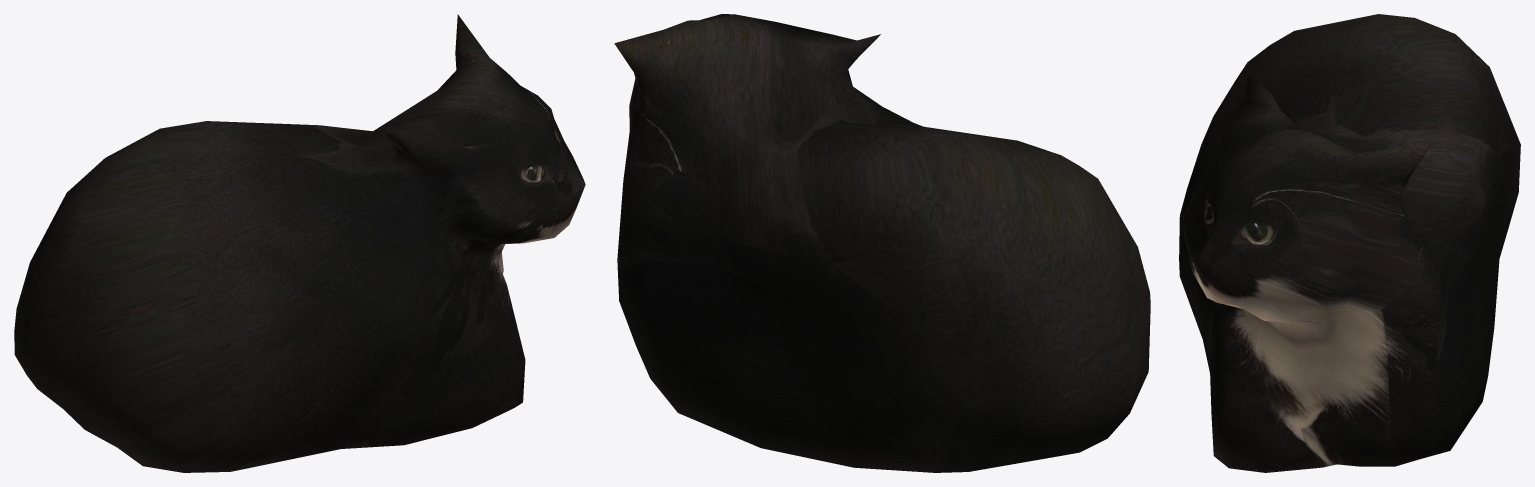
The model's file is spinnig_cat.obj.
The picture shows the model from 3 angles, left to right: view 1: azimuth 30°, elevation 25°; view 2: azimuth 150°, elevation 25°; view 3: azimuth 270°, elevation 25°; orthographic projection. The views are drawn at different scales.
Visible parts, largest first — view 1: dingus_dingus_0; view 2: dingus_dingus_0; view 3: dingus_dingus_0.
Boxes of the visible parts, x1,y1,x2,y2 form: dingus_dingus_0: (14, 14, 585, 472); dingus_dingus_0: (614, 14, 1150, 472); dingus_dingus_0: (1179, 14, 1520, 472).
Size of the model in its own units: 29.82 by 19.45 by 16.49.
